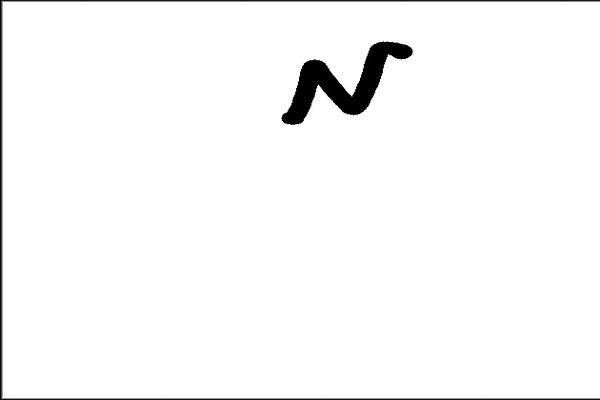N: (278, 37, 416, 128)
